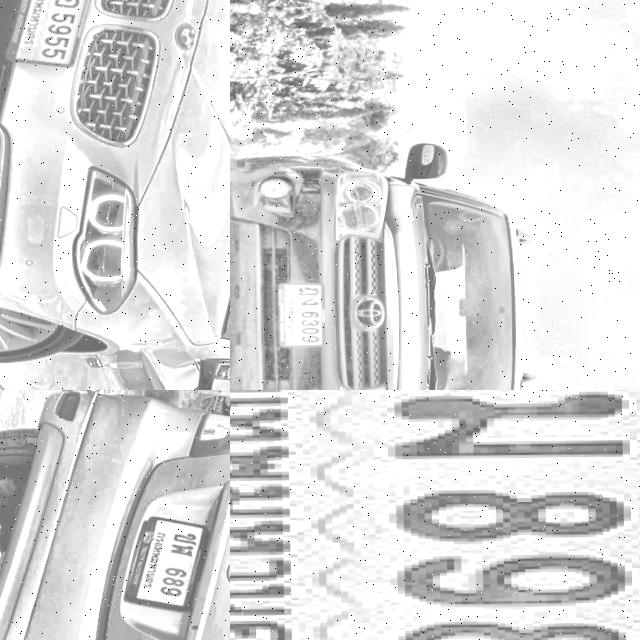license-plate: (230, 390, 640, 640), (115, 514, 214, 614), (0, 0, 103, 69), (274, 281, 325, 348)
